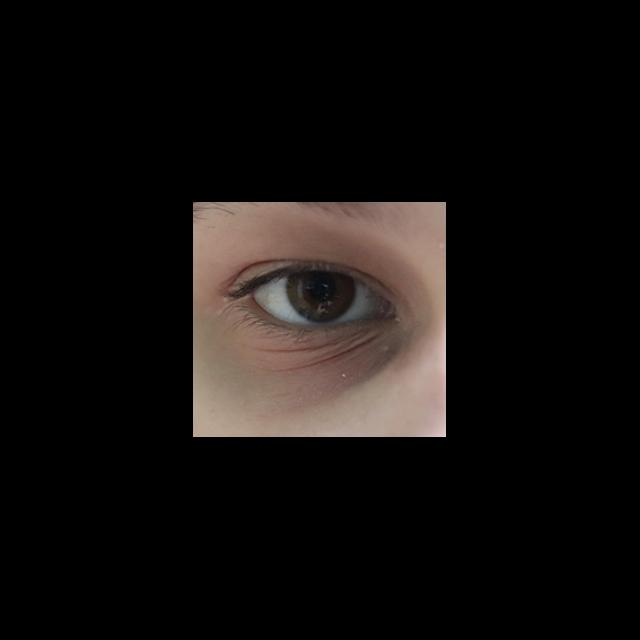eye: (254, 274, 382, 326)
iris: (286, 275, 355, 321)
